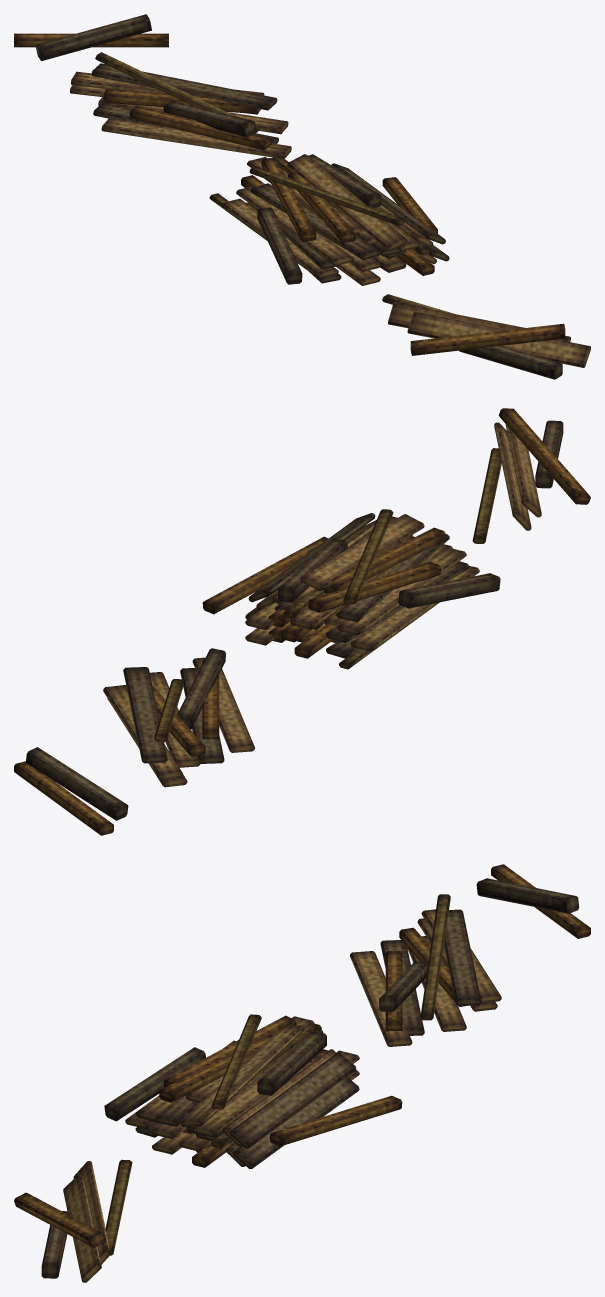
Rendered from EnvObjMD_Timber_A_XL.FBX.
3 renders of one model, top to bottom at view 1: azimuth 30°, elevation 25°; view 2: azimuth 150°, elevation 25°; view 3: azimuth 330°, elevation 25°, orthographic. The views are drawn at different scales.
Parts seen in each view (by area): view 1: EnvObjMD_Timber_A_XL, EnvObjMD_Timber_A_L, EnvObjMD_Timber_A_M, EnvObjMD_Timber_A_S; view 2: EnvObjMD_Timber_A_XL, EnvObjMD_Timber_A_L, EnvObjMD_Timber_A_M, EnvObjMD_Timber_A_S; view 3: EnvObjMD_Timber_A_XL, EnvObjMD_Timber_A_L, EnvObjMD_Timber_A_M, EnvObjMD_Timber_A_S.
Boxes of the visible parts, x1,y1,x2,y2 form: EnvObjMD_Timber_A_XL: [209, 154, 449, 285]; EnvObjMD_Timber_A_L: [70, 52, 291, 158]; EnvObjMD_Timber_A_M: [382, 294, 590, 379]; EnvObjMD_Timber_A_S: [14, 14, 168, 61]; EnvObjMD_Timber_A_XL: [202, 509, 500, 669]; EnvObjMD_Timber_A_L: [103, 648, 254, 787]; EnvObjMD_Timber_A_M: [472, 408, 590, 543]; EnvObjMD_Timber_A_S: [14, 747, 128, 835]; EnvObjMD_Timber_A_XL: [104, 1014, 402, 1168]; EnvObjMD_Timber_A_L: [350, 894, 501, 1046]; EnvObjMD_Timber_A_M: [14, 1159, 132, 1282]; EnvObjMD_Timber_A_S: [476, 864, 590, 938].
Size of the model in its own units: 283 by 76.37 by 1240.
